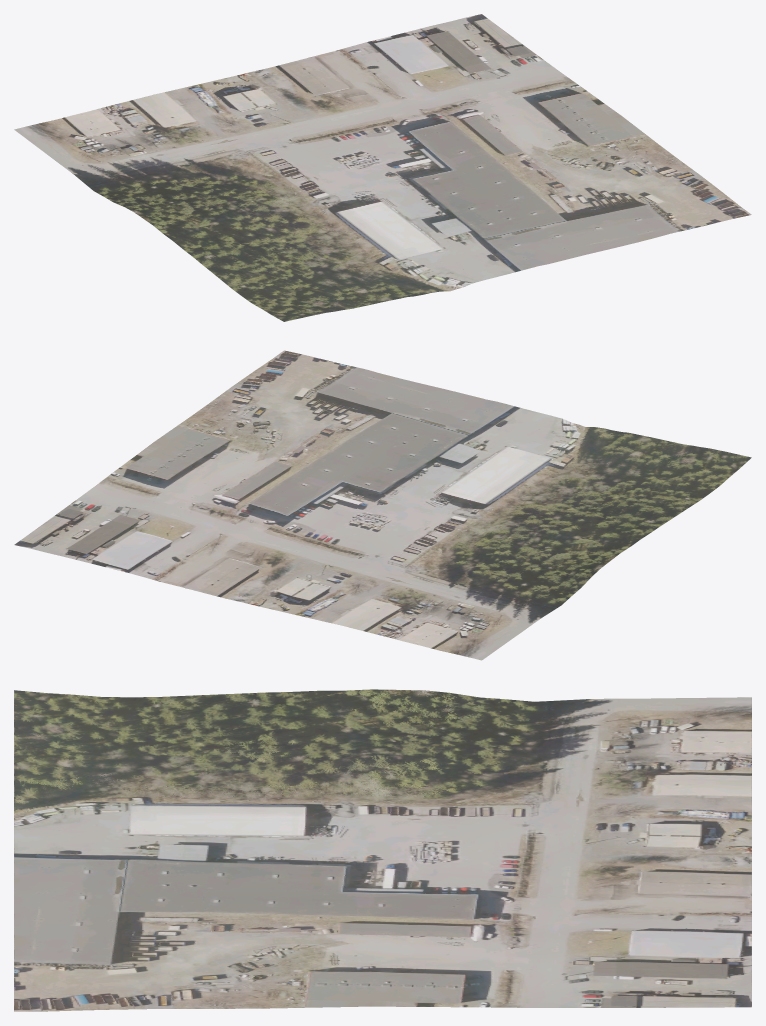
File: CM_Terrain_24493735_6815288.fbx
3 views of the same model, one above another, from view 1: azimuth 30°, elevation 25°; view 2: azimuth 150°, elevation 25°; view 3: azimuth 270°, elevation 25° (orthographic). The views are drawn at different scales.
Visible parts, largest first — view 1: CM_Terrain_24493735_6815288_LOD0; view 2: CM_Terrain_24493735_6815288_LOD0; view 3: CM_Terrain_24493735_6815288_LOD0.
Part boxes in pixels (x1,y1,x2,y2): CM_Terrain_24493735_6815288_LOD0: [14, 14, 751, 321]; CM_Terrain_24493735_6815288_LOD0: [14, 350, 751, 660]; CM_Terrain_24493735_6815288_LOD0: [14, 689, 751, 1011].
Size of what is drawn, in the model's own units: 205 by 4.41 by 205.
